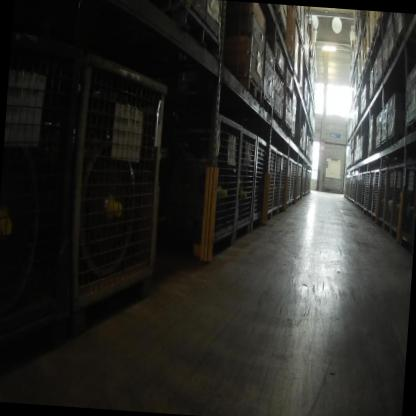pallet: (161, 0, 227, 65), (229, 68, 264, 108), (394, 22, 416, 55), (372, 11, 393, 29), (259, 96, 273, 121), (370, 25, 385, 46), (403, 116, 416, 135), (388, 44, 397, 71), (386, 132, 400, 147), (379, 138, 388, 151), (373, 144, 381, 157)
stillage: (65, 34, 183, 317), (166, 98, 245, 261), (231, 120, 259, 246), (250, 128, 270, 237), (399, 154, 416, 254), (260, 140, 277, 229), (389, 160, 407, 240), (382, 162, 397, 233), (269, 143, 283, 219), (376, 163, 389, 228), (278, 150, 290, 212), (371, 168, 382, 226), (367, 169, 377, 219), (284, 153, 292, 211), (363, 170, 372, 218), (291, 160, 298, 207), (289, 157, 295, 208), (358, 171, 365, 211), (361, 170, 367, 213), (294, 162, 300, 204), (297, 163, 303, 205), (354, 172, 360, 207), (357, 172, 362, 208), (352, 175, 357, 205), (351, 175, 356, 204)
